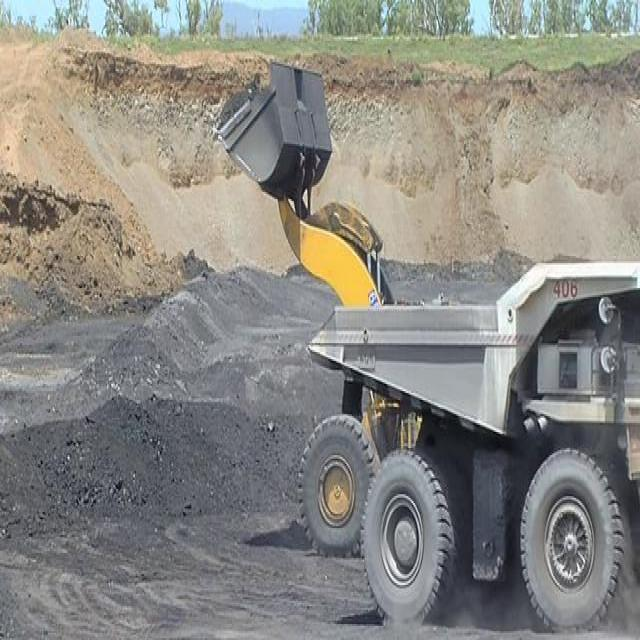Dump Truck: (303, 260, 639, 624)
Loader: (204, 53, 390, 306)
